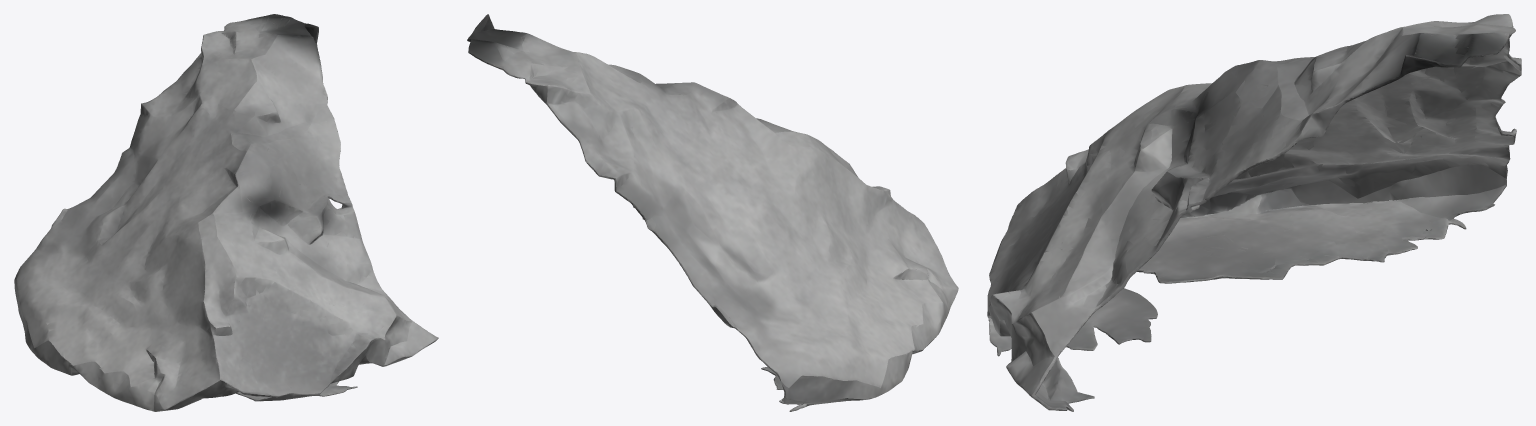
3 views of the same model, side by side, from view 1: azimuth 30°, elevation 25°; view 2: azimuth 150°, elevation 25°; view 3: azimuth 270°, elevation 25° (orthographic). The views are drawn at different scales.
Parts seen in each view (by area): view 1: world; view 2: world; view 3: world.
Part boxes in pixels (box(x1,y1,x2,y2)): world: box(14, 14, 438, 411); world: box(467, 14, 958, 411); world: box(987, 14, 1521, 411).
Bounding box in the file's own units: 0.32 × 0.2499 × 0.3203.
1 material, 1 textured.
